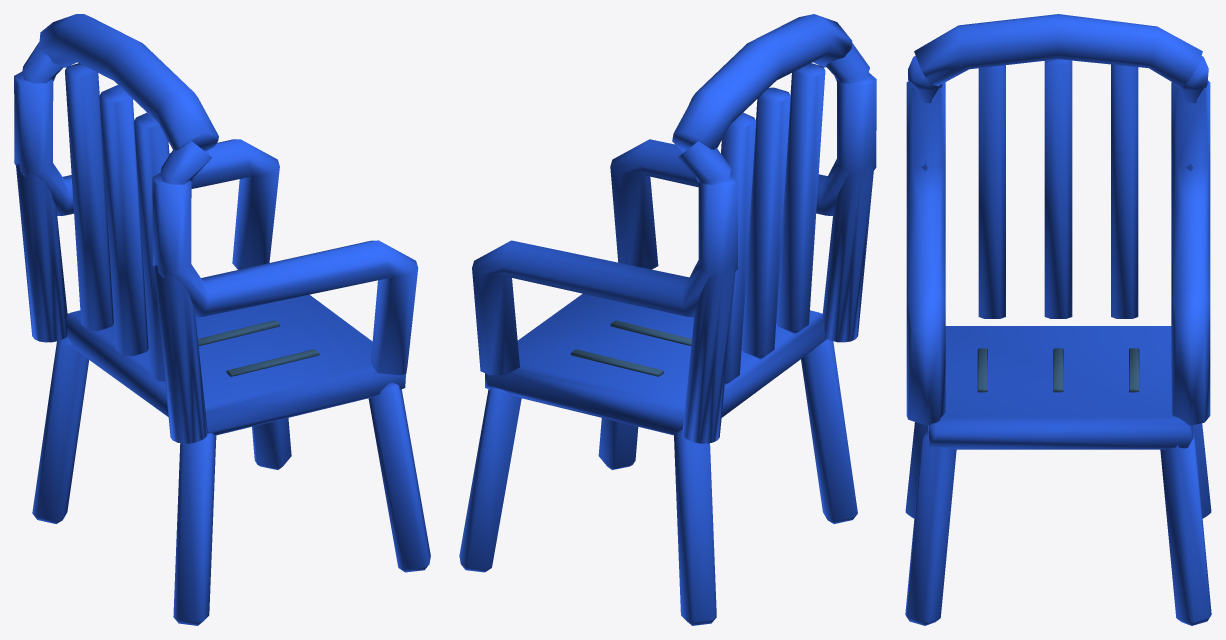
File: prop.lawn-chair-b.lod1.glb
3 renders of one model, left to right at view 1: azimuth 30°, elevation 25°; view 2: azimuth 150°, elevation 25°; view 3: azimuth 270°, elevation 25°, orthographic. The views are drawn at different scales.
Size of the model in its own units: 0.6416 by 1.18 by 0.648.
